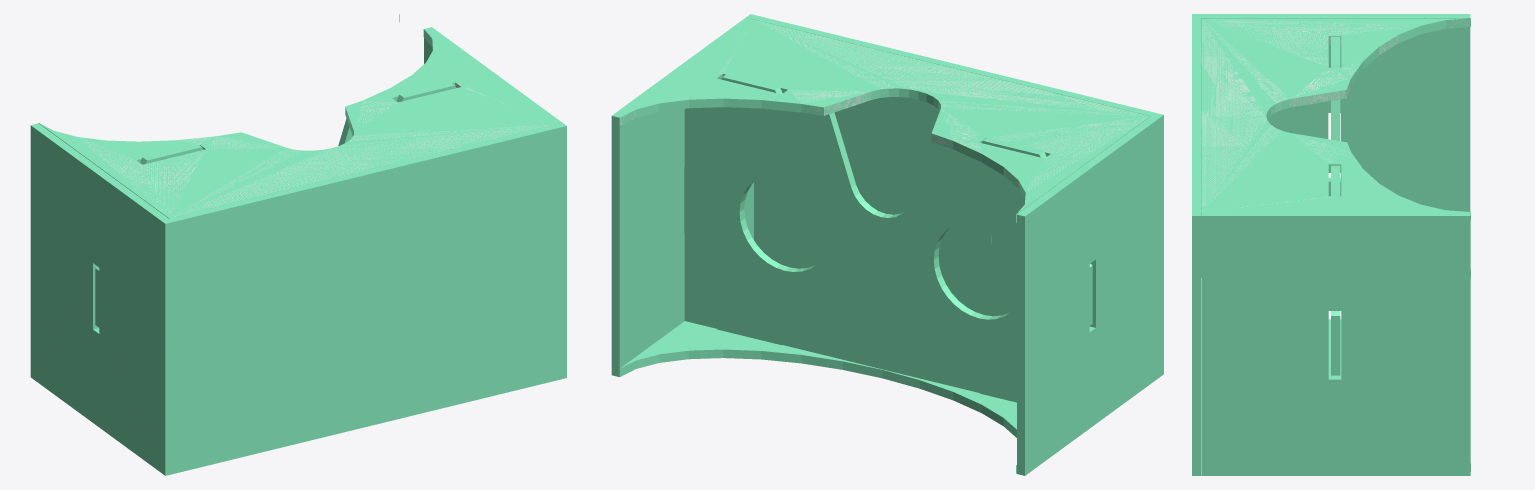
Rendered from Cardboard.obj.
The picture shows the model from 3 angles, left to right: view 1: azimuth 30°, elevation 25°; view 2: azimuth 150°, elevation 25°; view 3: azimuth 270°, elevation 25°; orthographic projection. The views are drawn at different scales.
Parts seen in each view (by area): view 1: polySurface11; view 2: polySurface11; view 3: polySurface11.
Boxes of the visible parts, box(x1,y1,x2,y2) form: polySurface11: box(30, 14, 566, 475); polySurface11: box(611, 14, 1163, 475); polySurface11: box(1192, 14, 1470, 475).
Size of the model in its own units: 6.66 by 4.09 by 4.58.
